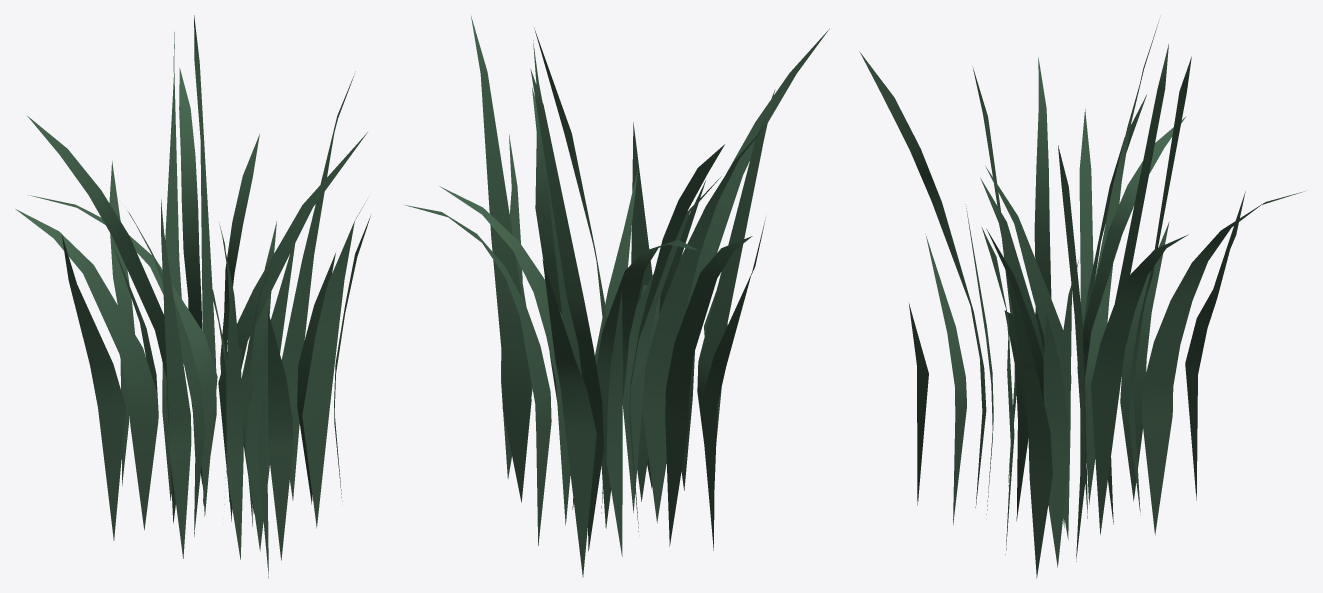
Rendered from trees-grasses-grass-clump_v6.glb.
3 renders of one model, left to right at view 1: azimuth 30°, elevation 25°; view 2: azimuth 150°, elevation 25°; view 3: azimuth 270°, elevation 25°, orthographic. The views are drawn at different scales.
Parts seen in each view (by area): view 1: Grass Clump_v6; view 2: Grass Clump_v6; view 3: Grass Clump_v6.
Boxes of the visible parts, bbox=[...] form: Grass Clump_v6: bbox=[15, 15, 370, 578]; Grass Clump_v6: bbox=[403, 16, 829, 576]; Grass Clump_v6: bbox=[859, 20, 1304, 578].
Bounding box in the file's own units: 0.2676 × 0.4 × 0.3313.
